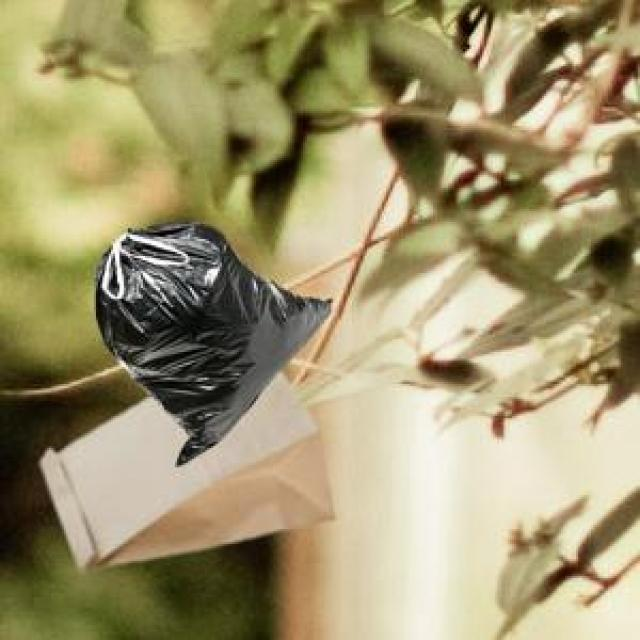miscellaneous trash: (92, 218, 329, 461)
paper: (38, 367, 331, 565)
